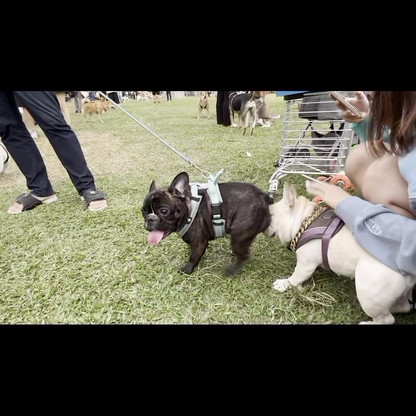bulldog: (139, 170, 272, 278)
